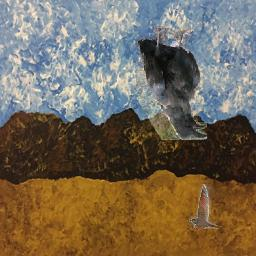Crow: (137, 26, 208, 140)
Cuckoo: (190, 185, 223, 230)
